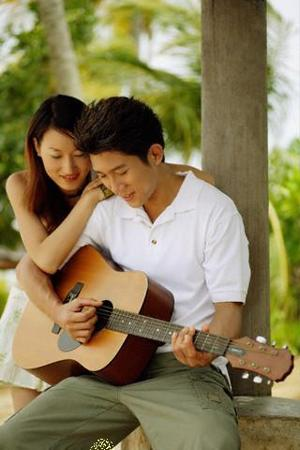person: (2, 95, 252, 448)
